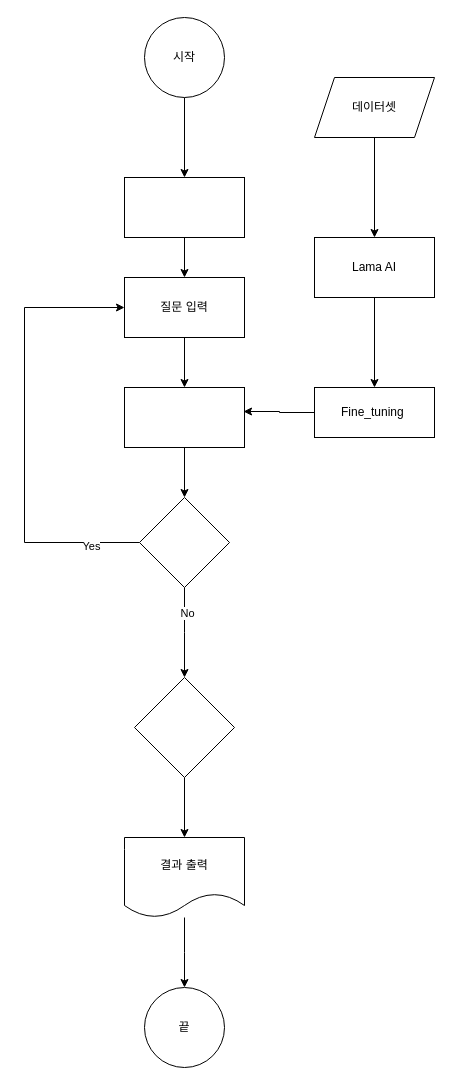
The diagram is 452 pixels wide and 1085 high, and some of its shapes have lost their labels. The centre of each missing label's shape, as x and y in pixels:
"AI (질문 대답)" belongs at (x=184, y=417).
"ai 가 범인인지 선택 Y/N" belongs at (x=184, y=727).
"상황 부여" belongs at (x=184, y=207).
"질문 횟수<5" belongs at (x=184, y=542).
